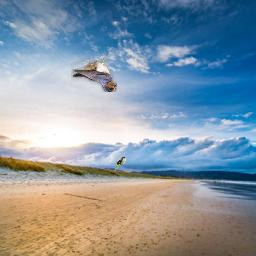Cuckoo: (114, 157, 127, 172)
Swallow: (71, 56, 117, 92)
